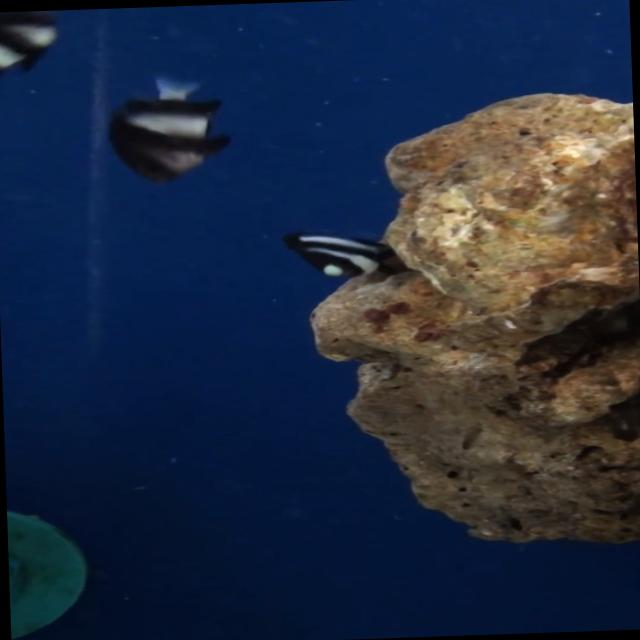ThreeStripedDamselfish: (97, 72, 239, 186), (274, 224, 404, 284)
